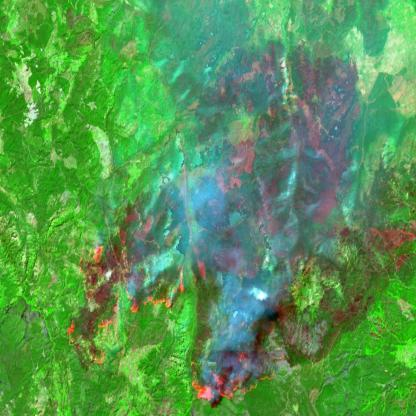fire: (65, 221, 290, 405)
